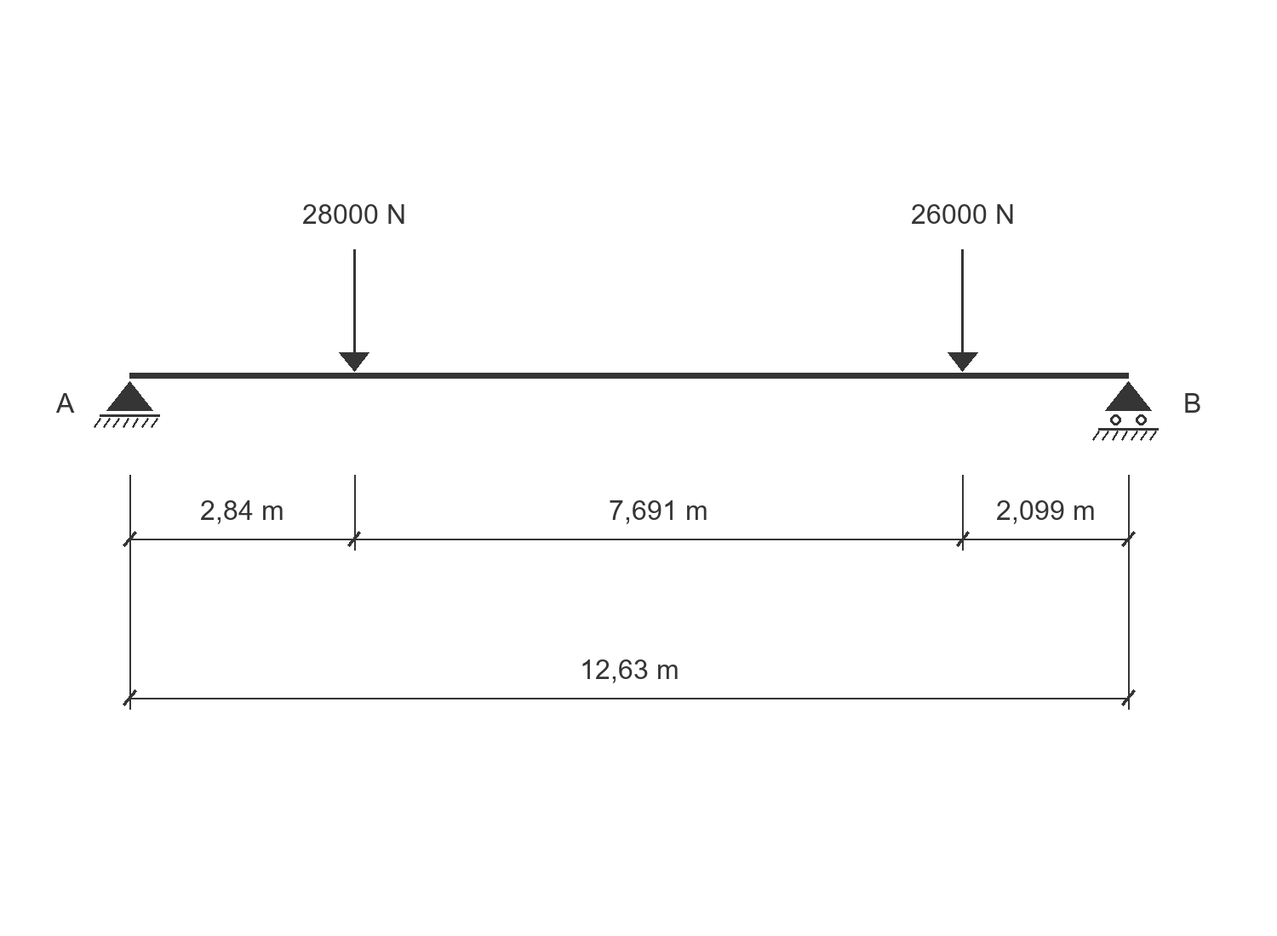pin_support: (94, 381, 160, 428)
point_load: (339, 249, 369, 372), (948, 249, 978, 372)
roller_support: (1092, 381, 1159, 441)
